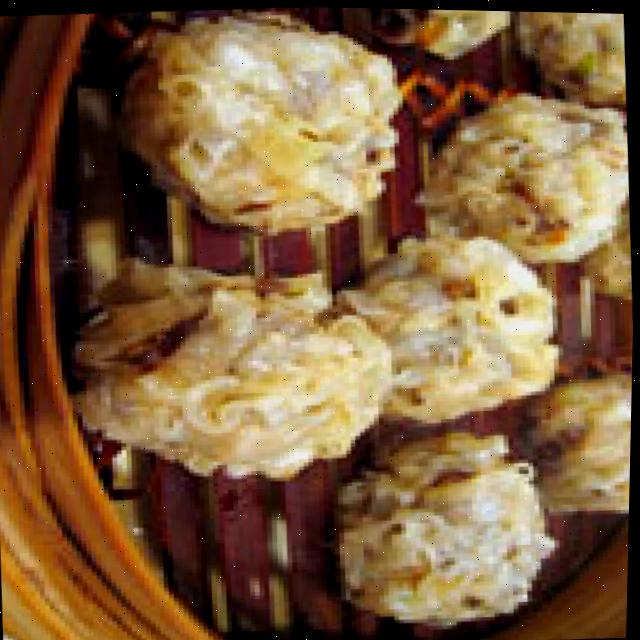带馅早点: (53, 1, 640, 640)
